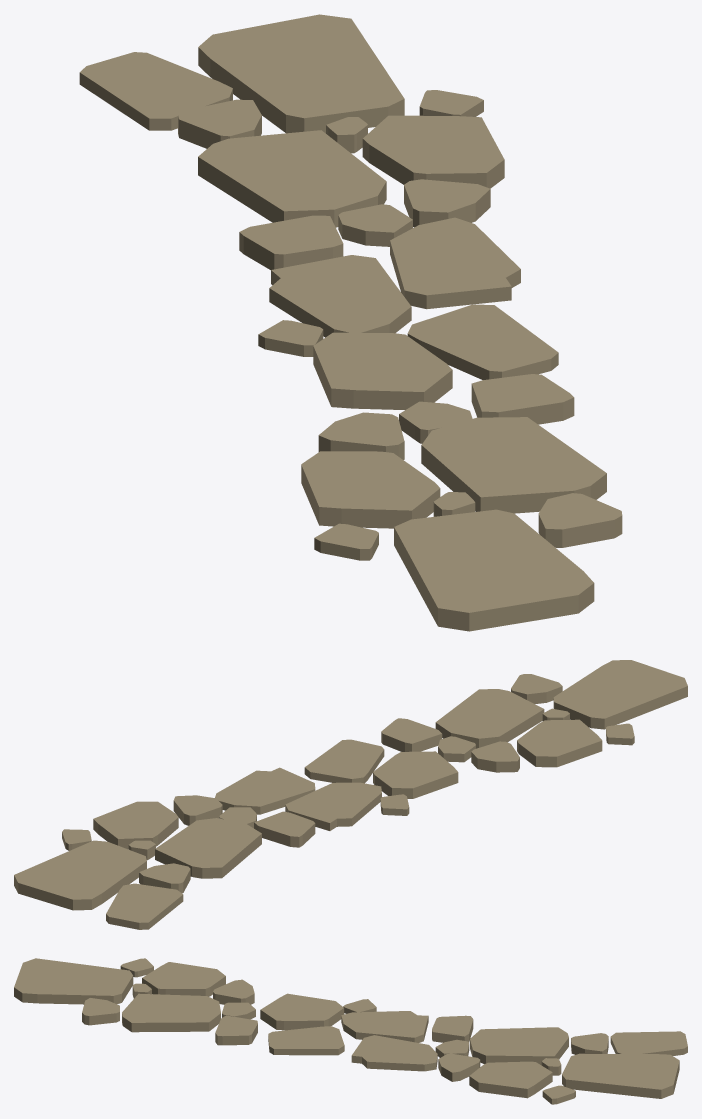
File: road.gltf
3 views of the same model, one above another, from view 1: azimuth 30°, elevation 25°; view 2: azimuth 150°, elevation 25°; view 3: azimuth 270°, elevation 25° (orthographic). The views are drawn at different scales.
Parts seen in each view (by area): view 1: Tile3.012; view 2: Tile3.012; view 3: Tile3.012.
Part boxes in pixels (x1,y1,x2,y2): Tile3.012: (79, 14, 622, 631); Tile3.012: (14, 660, 687, 929); Tile3.012: (14, 958, 687, 1104).
Size of the model in its own units: 2.98 by 0.0919 by 6.04.
